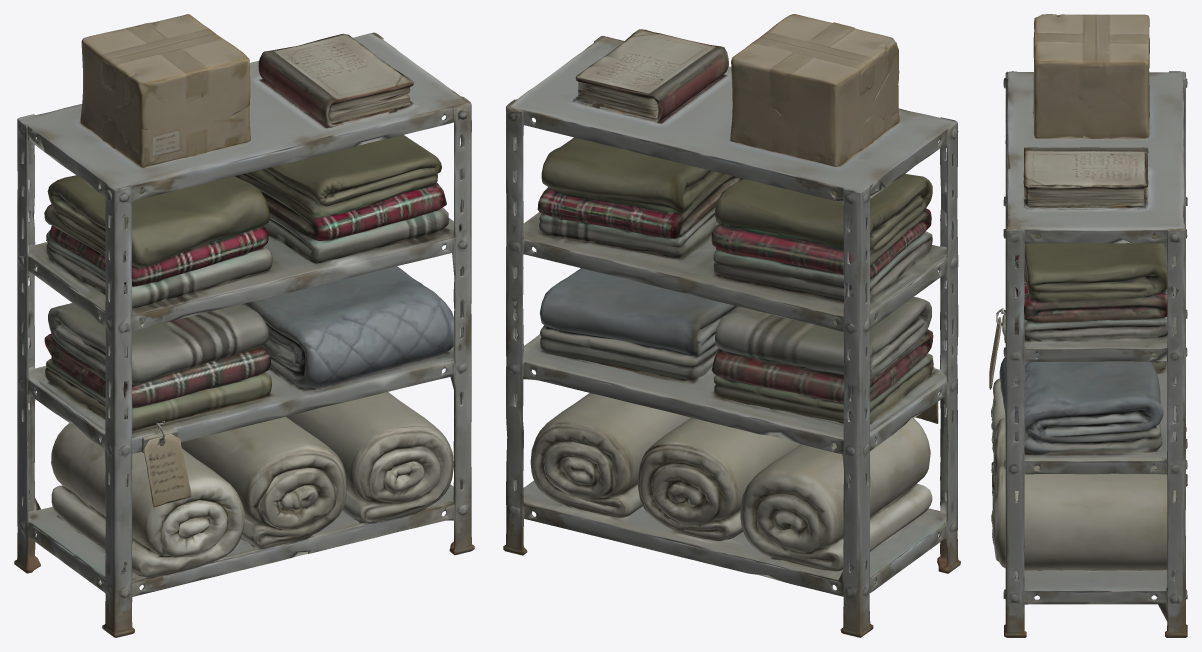
File: silo81_linen_shelf.glb
3 views of the same model, side by side, from view 1: azimuth 30°, elevation 25°; view 2: azimuth 150°, elevation 25°; view 3: azimuth 270°, elevation 25° (orthographic). The views are drawn at different scales.
Visible parts, largest first — view 1: tripo_node_b231c211-10ee-4a72-849f-663f63958fae; view 2: tripo_node_b231c211-10ee-4a72-849f-663f63958fae; view 3: tripo_node_b231c211-10ee-4a72-849f-663f63958fae.
Boxes of the visible parts, x1,y1,x2,y2 form: tripo_node_b231c211-10ee-4a72-849f-663f63958fae: (14,14,474,637); tripo_node_b231c211-10ee-4a72-849f-663f63958fae: (503,14,960,637); tripo_node_b231c211-10ee-4a72-849f-663f63958fae: (989,14,1187,637).
Size of the model in its own units: 0.6961 by 0.9796 by 0.3632.
1 material, 1 textured.
